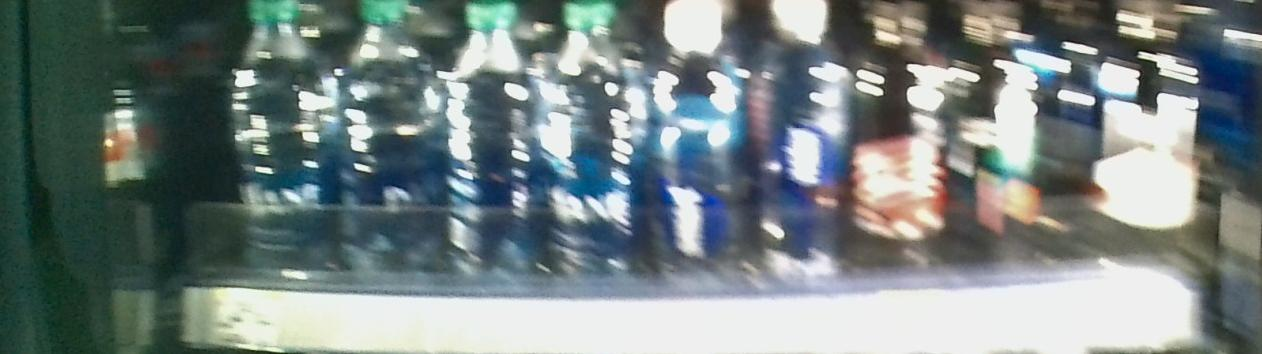bottle: (226, 1, 345, 283), (654, 8, 752, 296), (350, 7, 448, 293), (762, 7, 853, 302), (553, 10, 645, 290), (453, 5, 543, 289), (863, 8, 940, 293)
